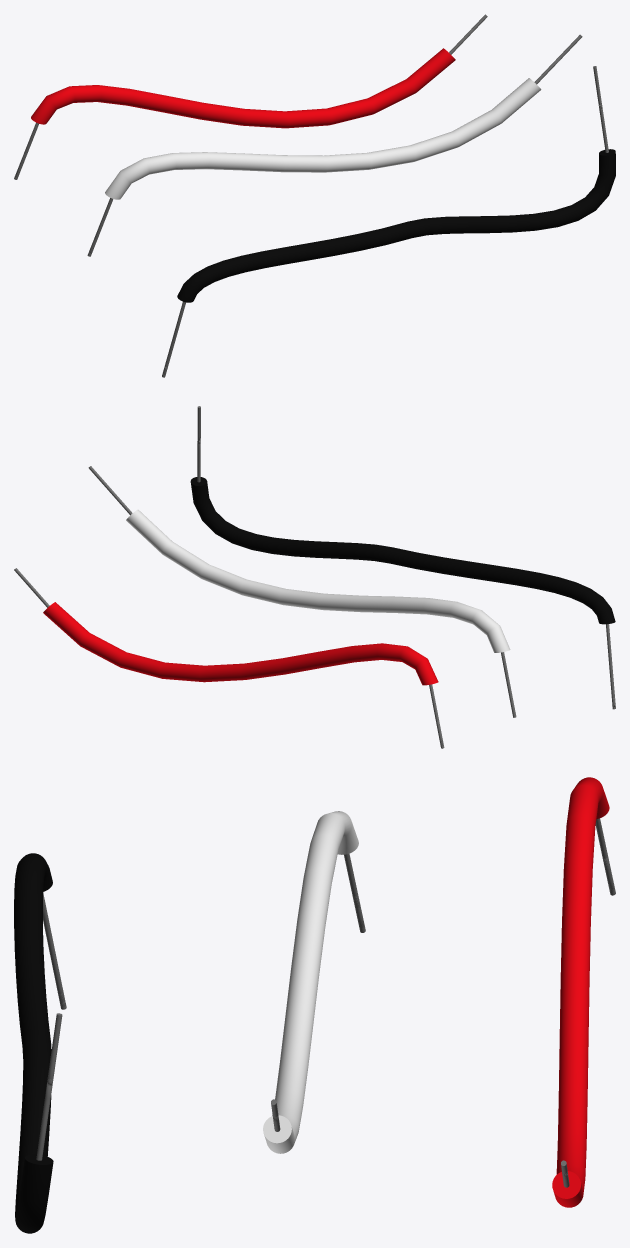
The model's file is cable.fbx.
The picture shows the model from 3 angles, top to bottom: view 1: azimuth 30°, elevation 25°; view 2: azimuth 150°, elevation 25°; view 3: azimuth 270°, elevation 25°; orthographic projection. The views are drawn at different scales.
Parts seen in each view (by area): view 1: Cable03Ext, Cable02Ext, Cable01Ext, Cable03Int, Cable02Int; view 2: Cable03Ext, Cable01Ext, Cable02Ext, Cable03Int, Cable02Int; view 3: Cable01Ext, Cable03Ext, Cable02Ext, Cable03Int, Cable02Int, Cable01Int.
Part boxes in pixels (x1,y1,x2,y2): Cable03Ext: (177,149,615,302); Cable02Ext: (105,78,541,199); Cable01Ext: (31,48,455,128); Cable03Int: (162,66,608,377); Cable02Int: (87,34,582,256); Cable03Ext: (190,477,615,624); Cable01Ext: (43,602,438,685); Cable02Ext: (126,509,510,652); Cable03Int: (197,406,615,709); Cable02Int: (88,466,516,717); Cable01Ext: (552,777,609,1207); Cable03Ext: (14,853,53,1233); Cable02Ext: (263,811,358,1153); Cable03Int: (36,894,66,1160); Cable02Int: (271,853,365,1131); Cable01Int: (561,818,615,1187).
Bounding box in the file's own units: 260 × 106 × 166.
